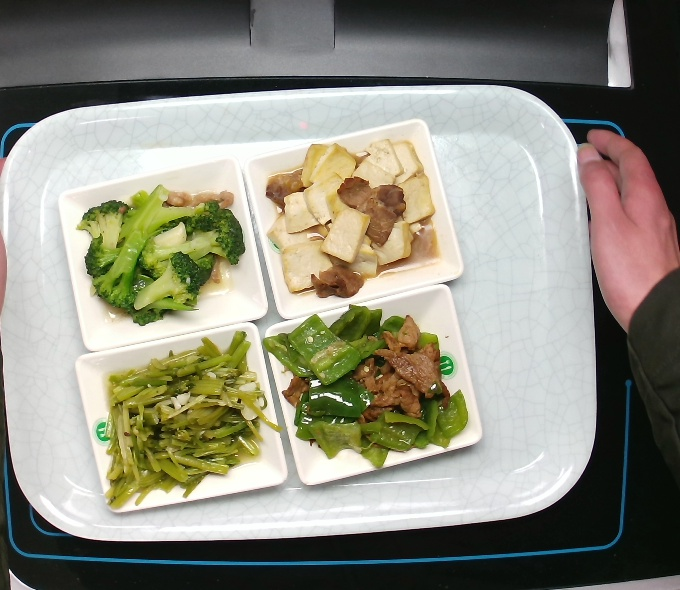wcq-DouFuRouPian: (248, 130, 455, 300)
wcq-QinCai: (95, 322, 281, 513)
wcq-QingJiaoChaoRou: (281, 304, 466, 469)
wcq-XiLanHua: (72, 177, 243, 328)
